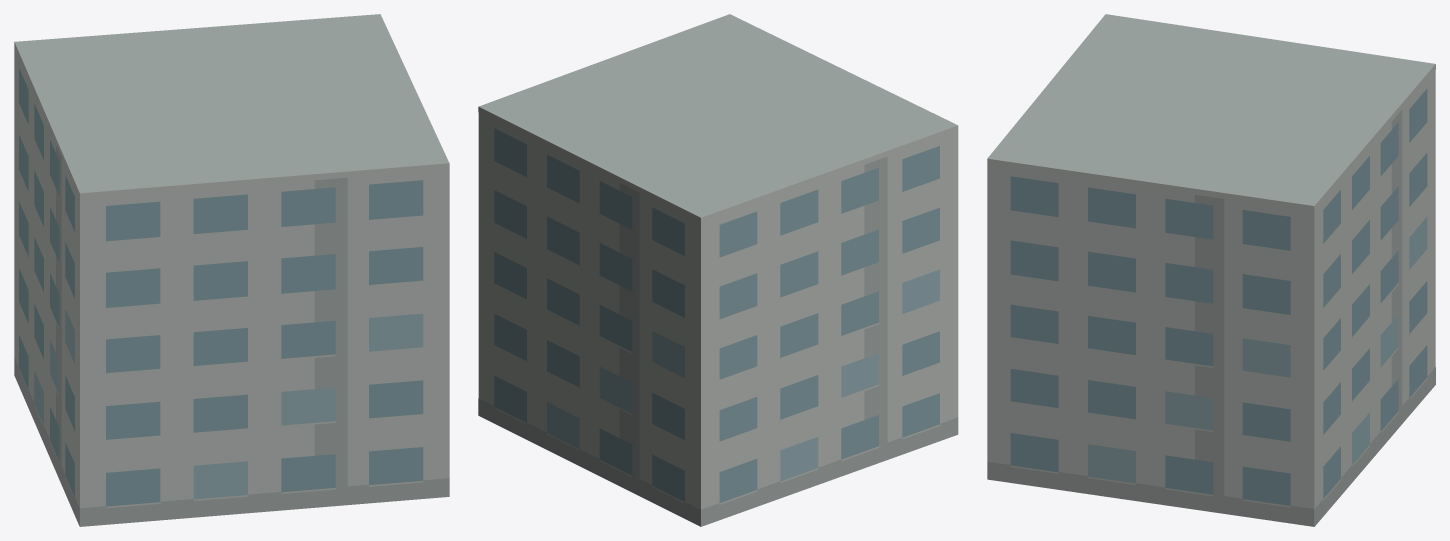
The model's file is survey-upis-32884112.glb.
3 views of the same model, side by side, from view 1: azimuth 30°, elevation 25°; view 2: azimuth 150°, elevation 25°; view 3: azimuth 270°, elevation 25° (orthographic). The views are drawn at different scales.
Parts seen in each view (by area): view 1: survey-upis-32884112.tmp; view 2: survey-upis-32884112.tmp; view 3: survey-upis-32884112.tmp.
Part boxes in pixels (x1,y1,x2,y2): survey-upis-32884112.tmp: [14, 14, 449, 526]; survey-upis-32884112.tmp: [478, 14, 958, 526]; survey-upis-32884112.tmp: [987, 14, 1435, 526].
Bounding box in the file's own units: 16.96 × 13.2 × 16.74.
